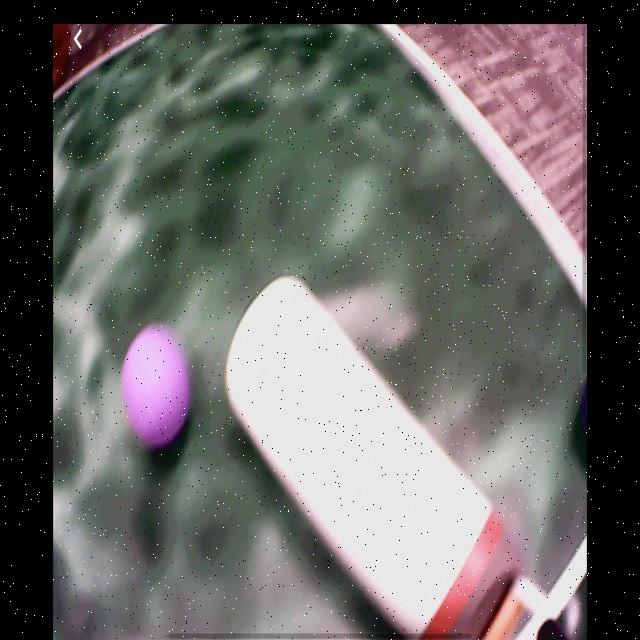ball: (122, 328, 194, 447)
